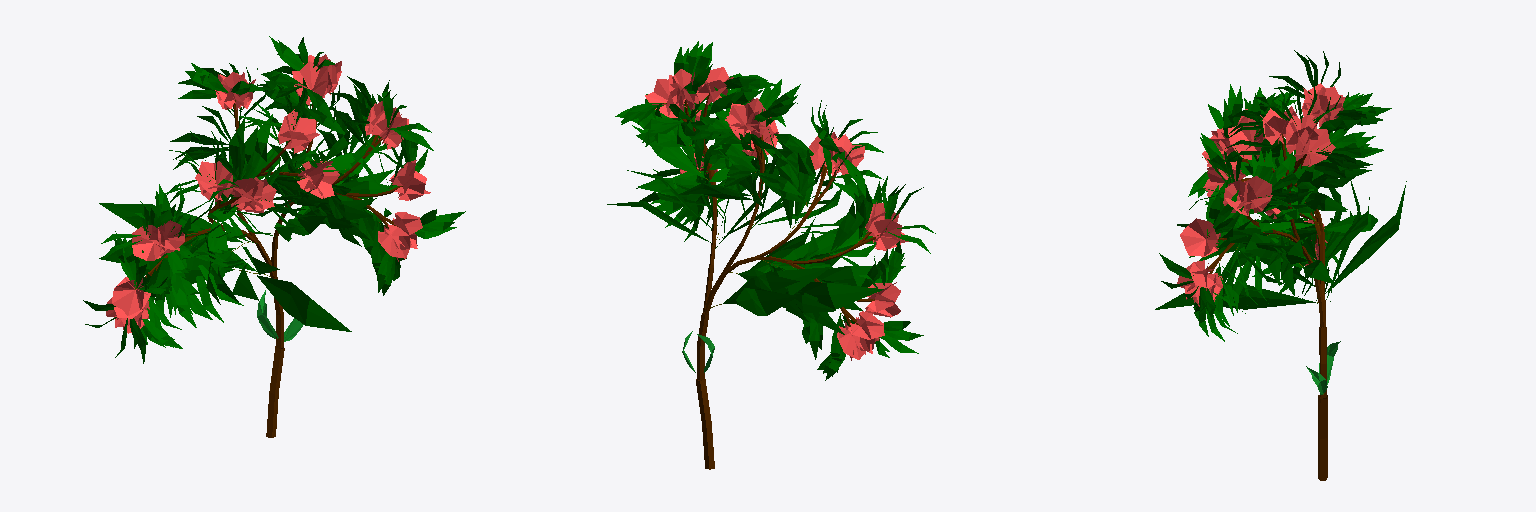
The model's file is fleur6.obj.
3 views of the same model, side by side, from view 1: azimuth 30°, elevation 25°; view 2: azimuth 150°, elevation 25°; view 3: azimuth 270°, elevation 25° (orthographic).
Parts seen in each view (by area): view 1: 1coral-li; view 2: 1coral-li; view 3: 1coral-li.
Part boxes in pixels (x1,y1,x2,y2): 1coral-li: (83,36,465,437); 1coral-li: (607,41,935,469); 1coral-li: (1155,50,1406,480).
Size of the model in its own units: 6.92 by 8.29 by 4.65.